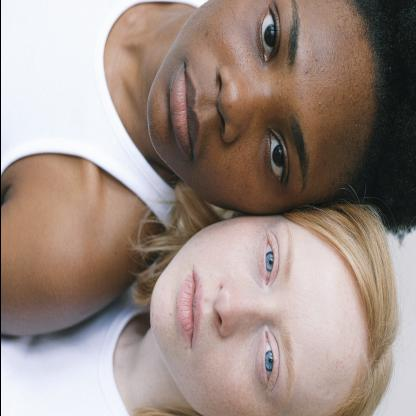Eye: (263, 126, 293, 195), (256, 0, 282, 70), (254, 327, 280, 397), (254, 225, 281, 291)
Mouth: (168, 58, 202, 165), (174, 268, 205, 350)
Nose: (215, 63, 271, 148), (214, 279, 264, 338)
